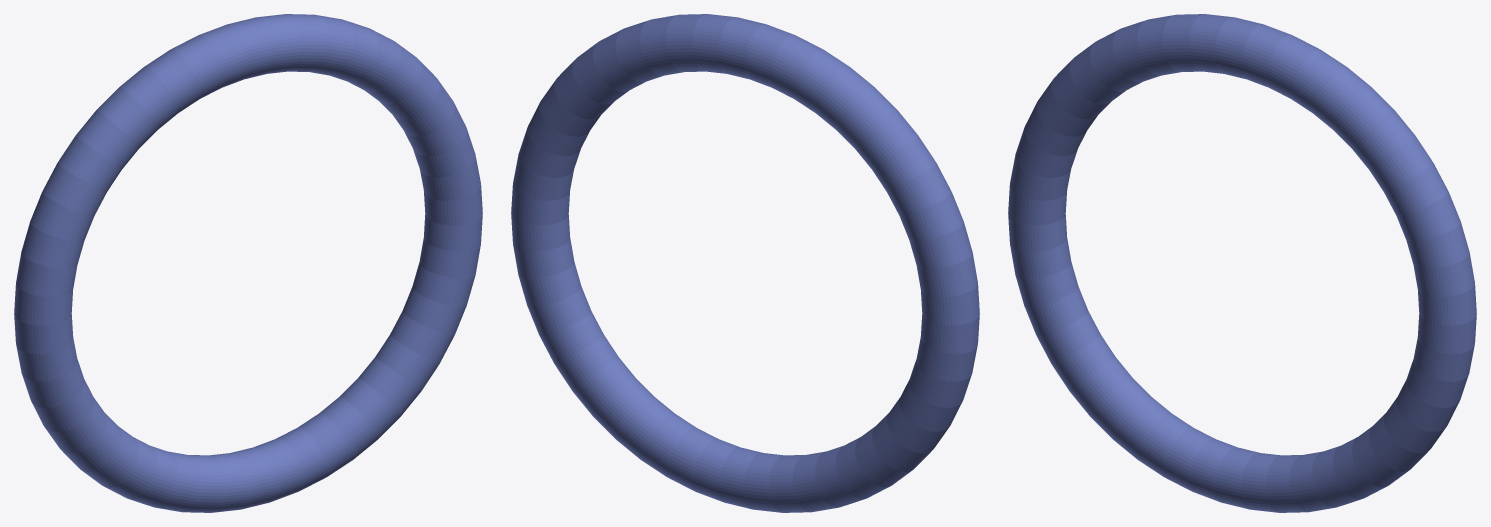
3 views of the same model, side by side, from view 1: azimuth 30°, elevation 25°; view 2: azimuth 150°, elevation 25°; view 3: azimuth 330°, elevation 25° (orthographic).
Parts seen in each view (by area): view 1: world; view 2: world; view 3: world.
Boxes of the visible parts, x1,y1,x2,y2 form: world: (14,14,482,512); world: (511,14,979,512); world: (1008,14,1476,512).
Size of the model in its own units: 20.93 by 20.89 by 2.26.
